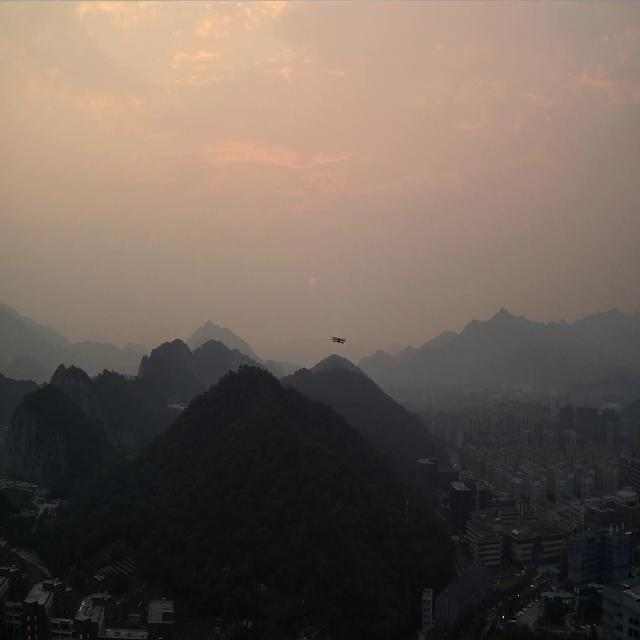drone: (330, 336, 346, 344)
